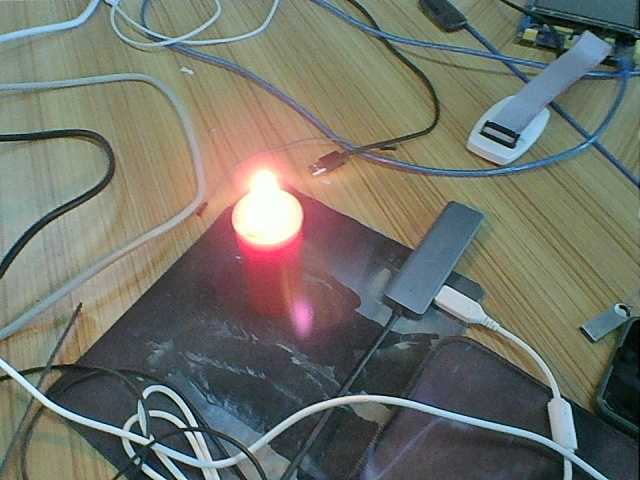candle: (236, 236, 307, 320)
fire: (237, 169, 294, 228)
